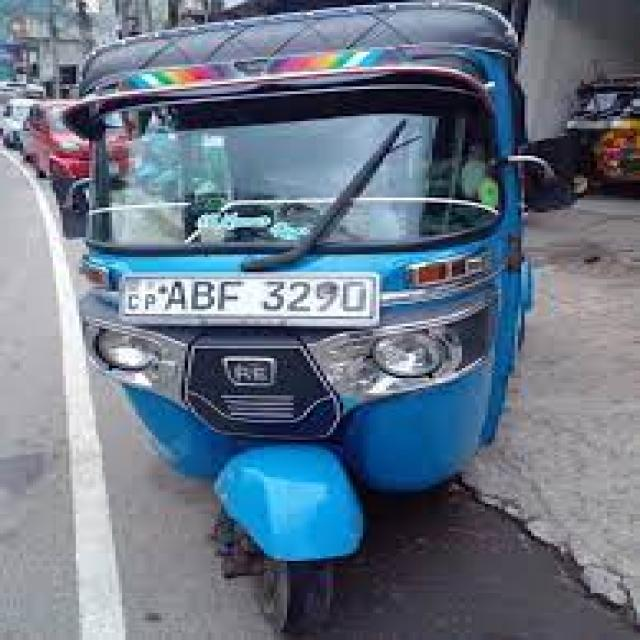car: (23, 99, 86, 178)
three wheeler: (66, 2, 528, 638), (538, 77, 637, 198)
